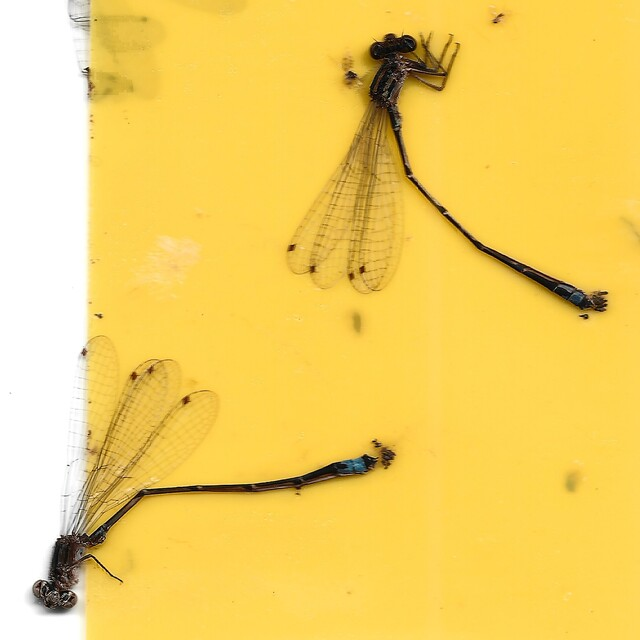Odonata: (31, 335, 380, 611), (284, 29, 609, 313)
